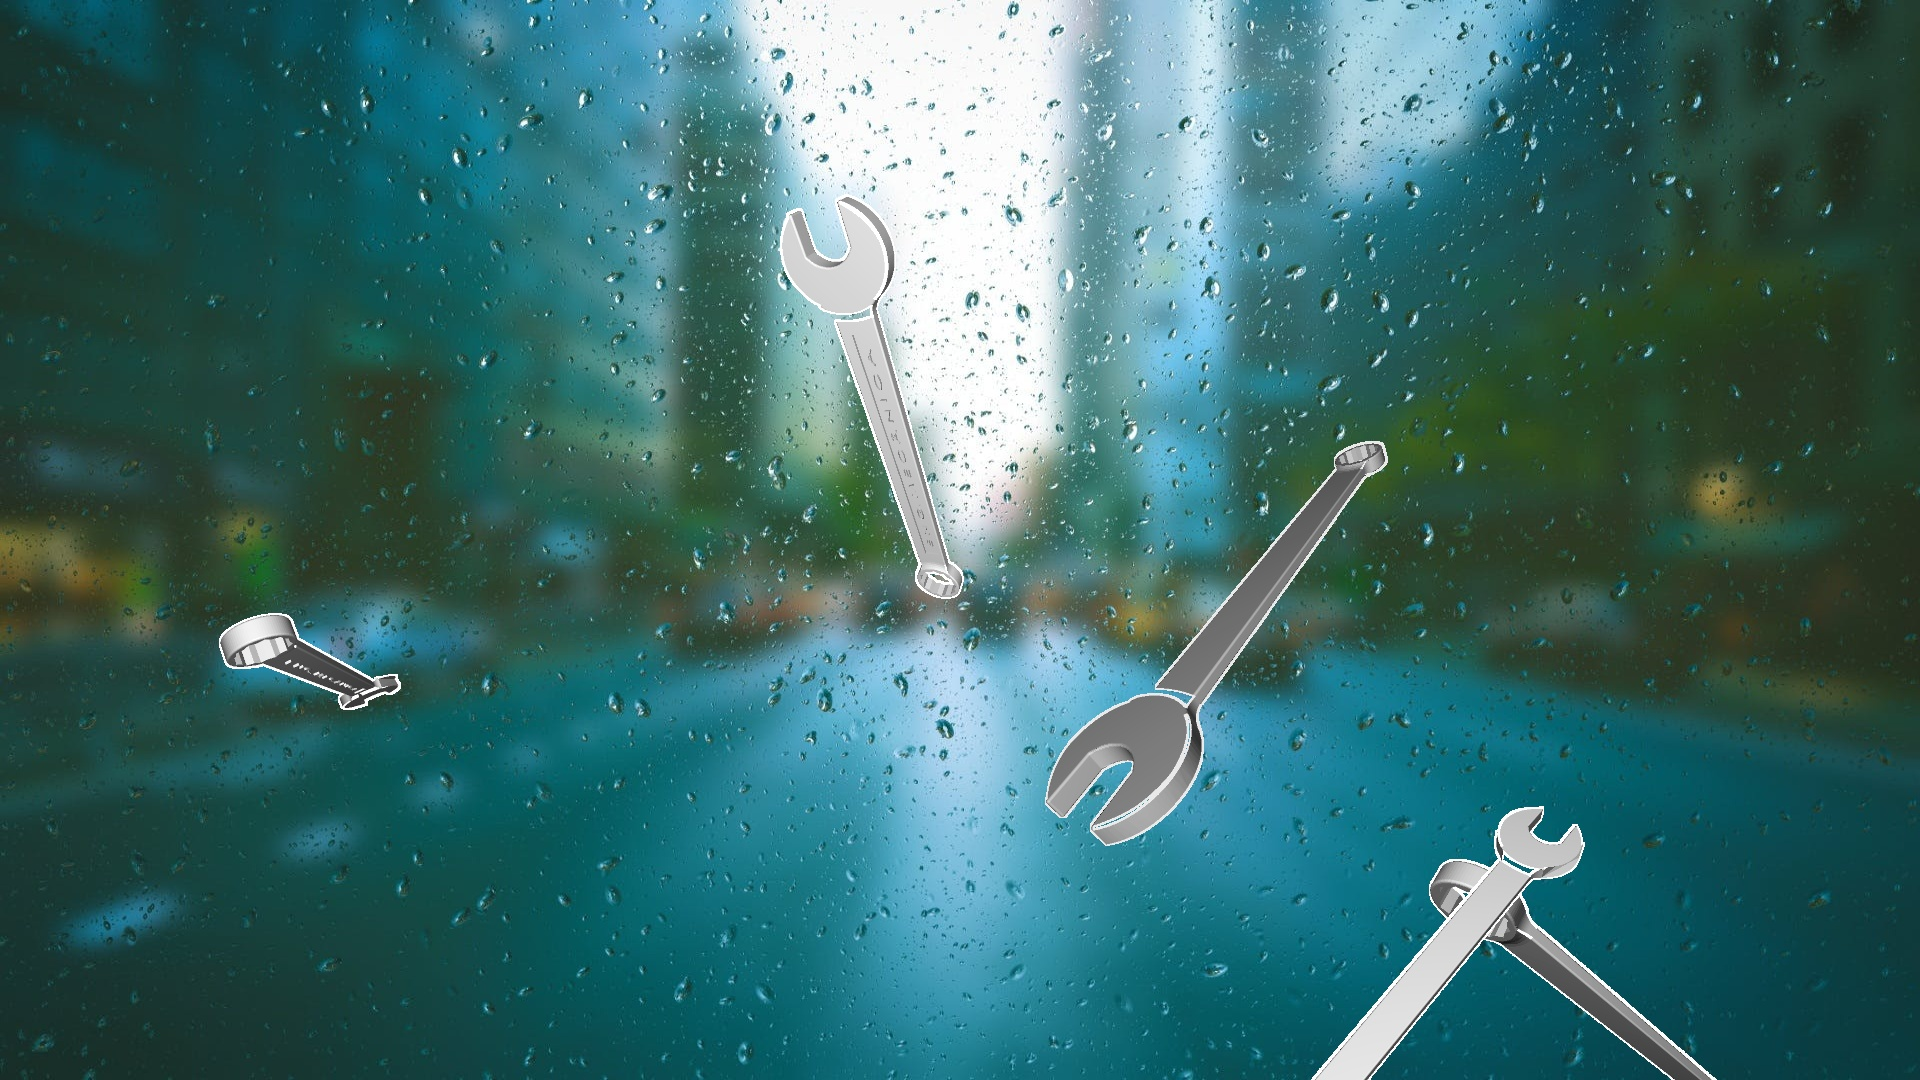Mixed Key: (1180, 390, 1526, 827), (1044, 440, 1387, 845), (709, 372, 916, 829), (1311, 806, 1584, 1079), (781, 194, 963, 597), (1429, 858, 1716, 1079), (0, 760, 196, 1079), (705, 0, 1077, 131), (219, 613, 400, 709), (852, 235, 886, 568)
